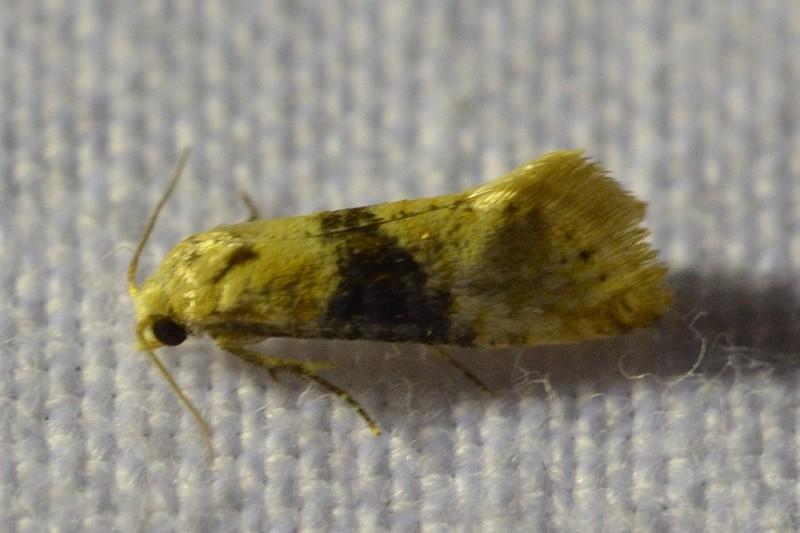Eupoecilia Ambiguella: (121, 140, 676, 464)
